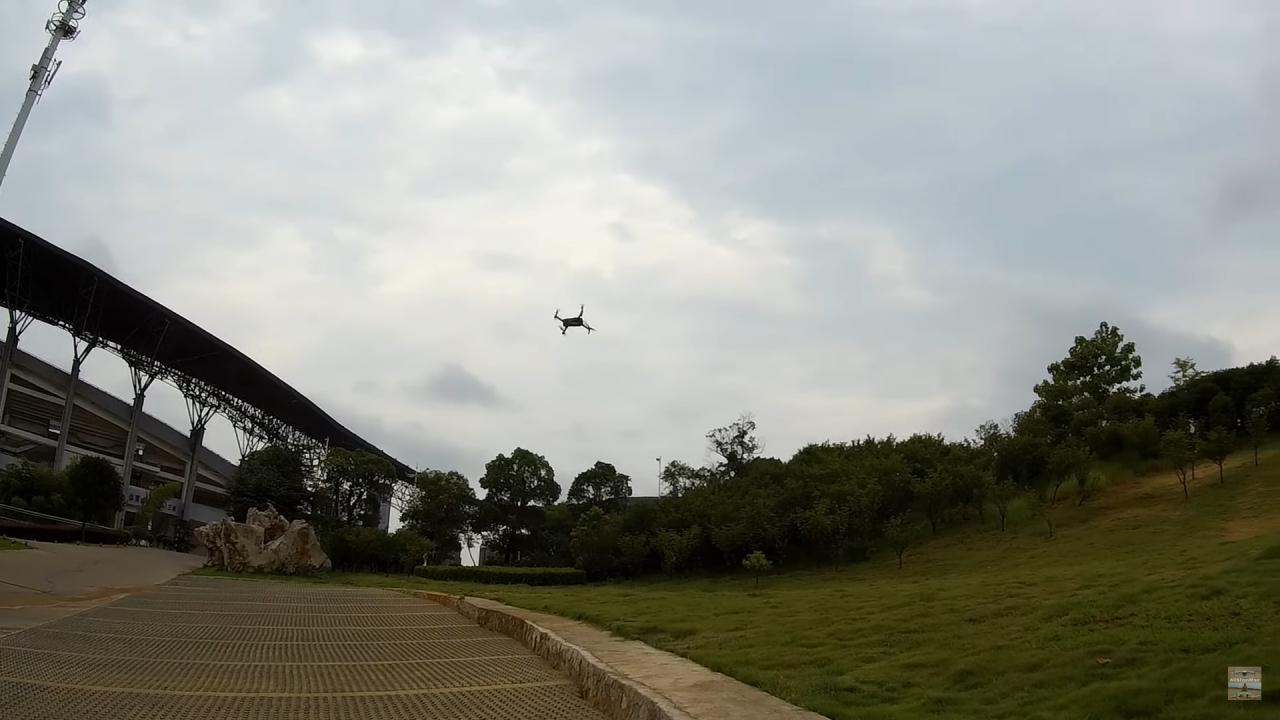Drone: (545, 298, 604, 342)
